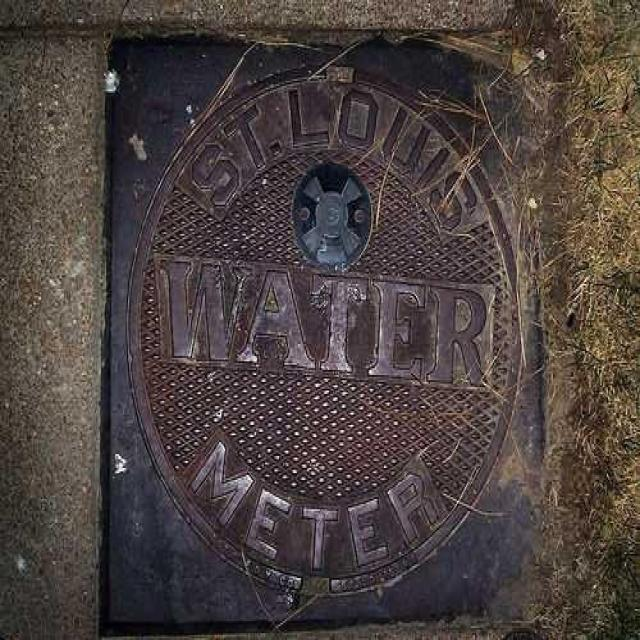manhole: (104, 37, 541, 630)
